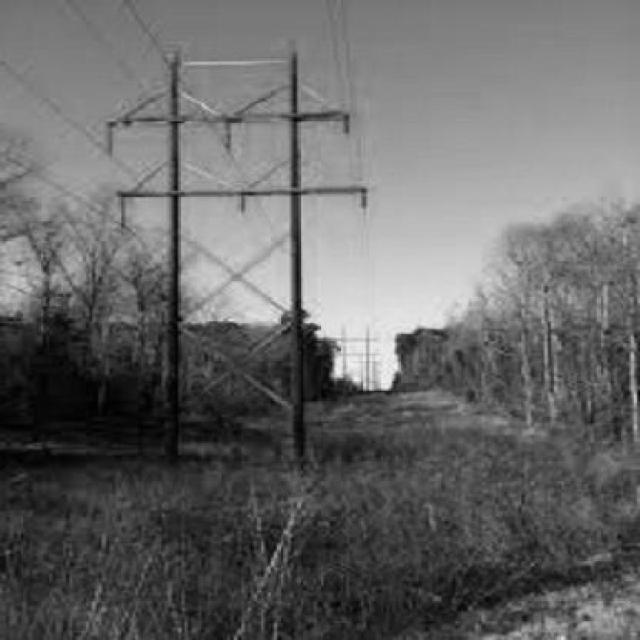Pole: (106, 46, 369, 463)
